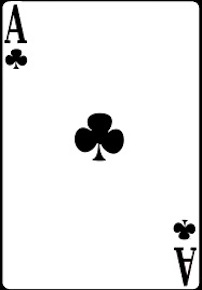AceOfClubs: (2, 2, 199, 290)
